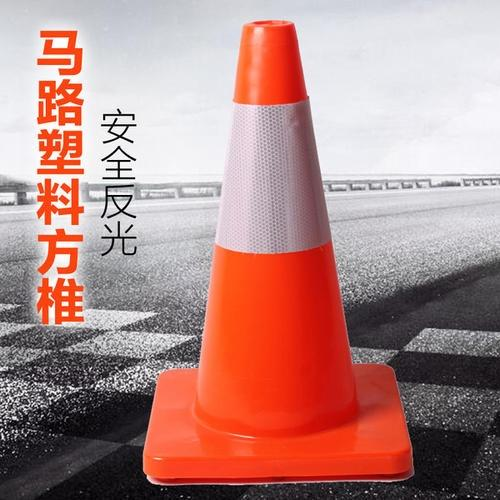cone_barrel: (173, 28, 368, 465)
